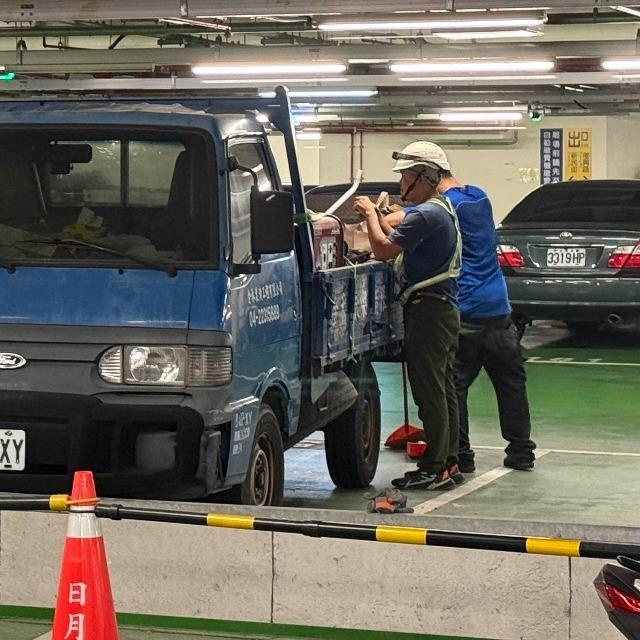Con_Casco: (389, 140, 448, 201)
